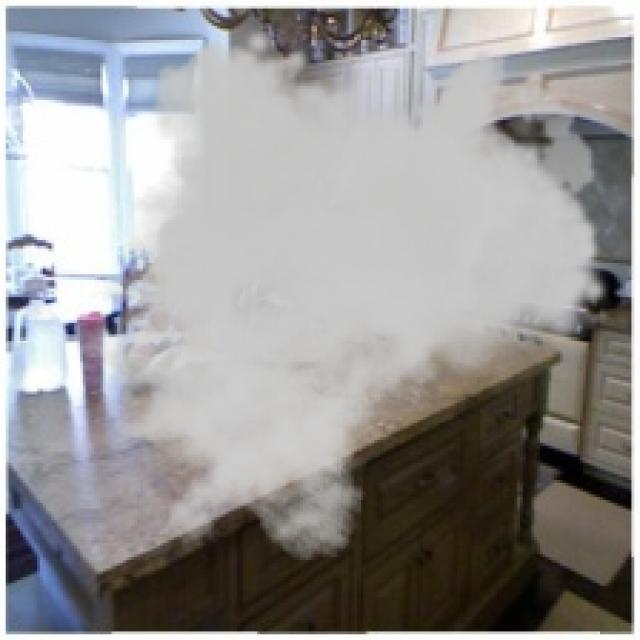smoke: (57, 26, 612, 563)
